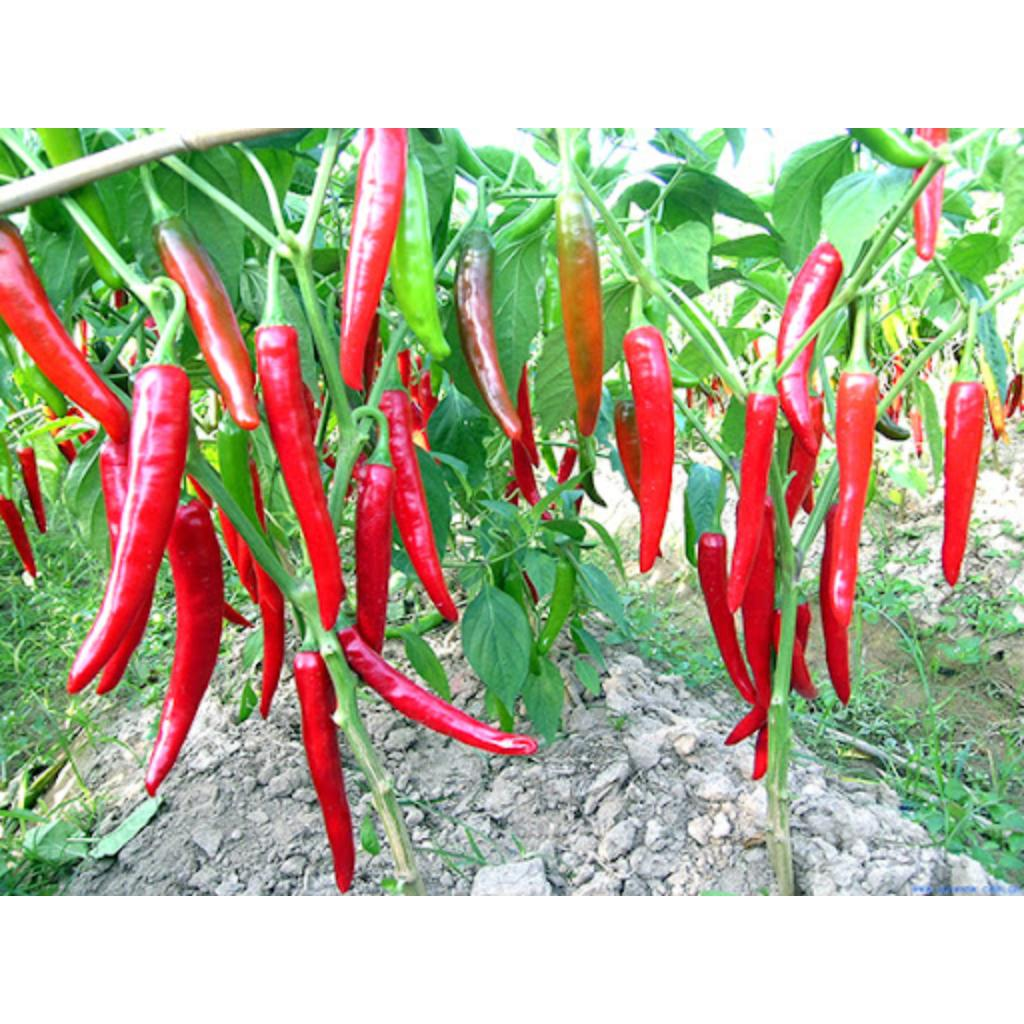chili: (68, 366, 192, 693), (0, 220, 130, 441), (256, 326, 344, 629), (338, 626, 538, 755), (154, 216, 260, 429), (146, 500, 222, 795), (380, 390, 458, 621), (340, 128, 408, 389), (556, 128, 604, 435), (294, 652, 354, 892), (456, 226, 522, 439), (624, 324, 674, 571), (830, 372, 878, 625), (728, 392, 775, 611), (698, 532, 756, 704), (942, 380, 986, 585), (778, 242, 842, 363), (356, 464, 396, 652), (742, 498, 776, 709), (255, 564, 284, 718), (778, 342, 816, 455), (0, 494, 38, 578), (17, 447, 46, 533)
